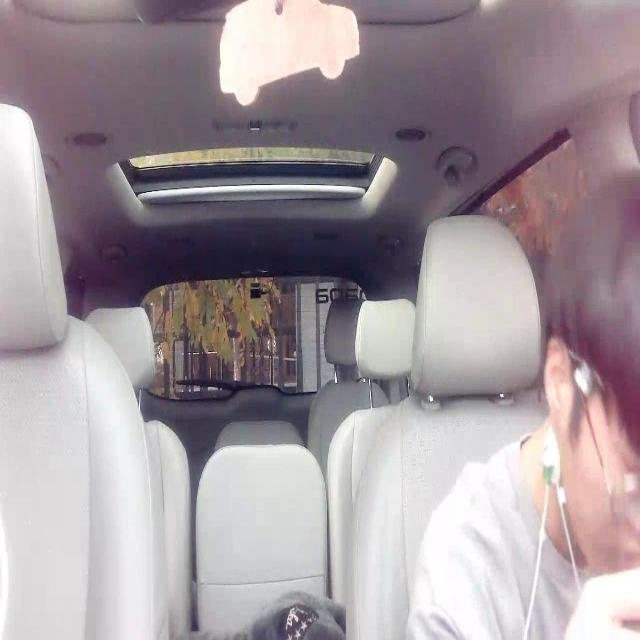Inattentive: (541, 166, 640, 580)
